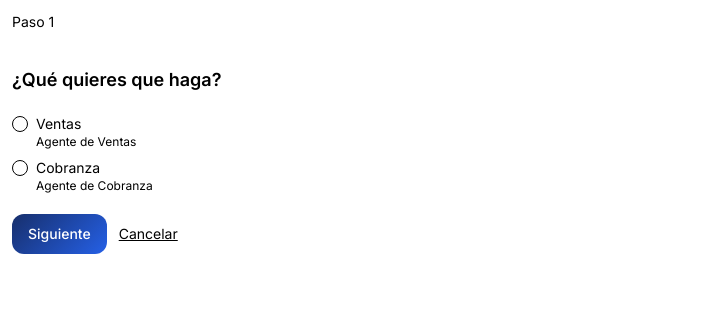
Test case: asistente en pantalla › Cobranza no ve las preguntas de Ventas y el paso de contenido enlaza lo que falta
Click the 2nd radio button named "Cobranza".
click(20, 168)  # box 12,160 -> 28,176
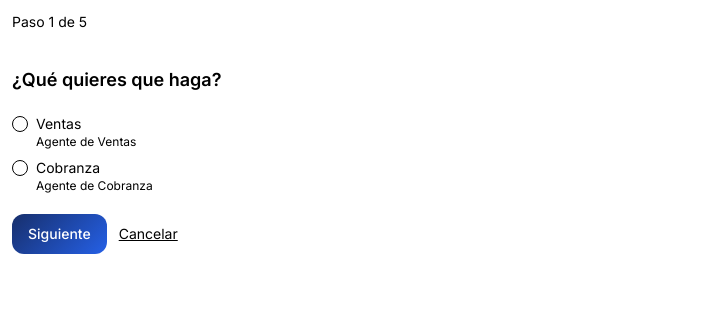
Click the button "Siguiente".
click(59, 234)  # box 12,214 -> 107,254
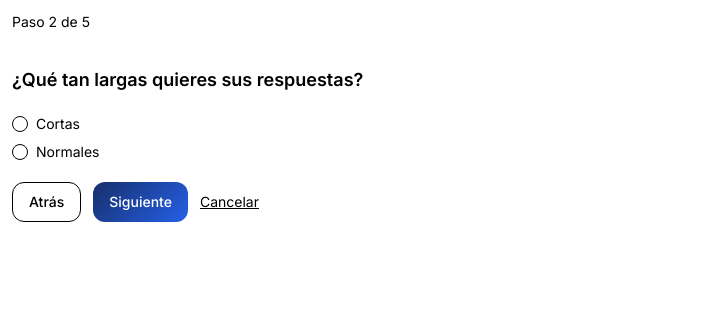
Now the heading "¿Qué tan largas quieres sus respuestas?" is shown, box 12,69 -> 363,90
Click the button "Siguiente".
click(141, 202)  # box 93,182 -> 188,222
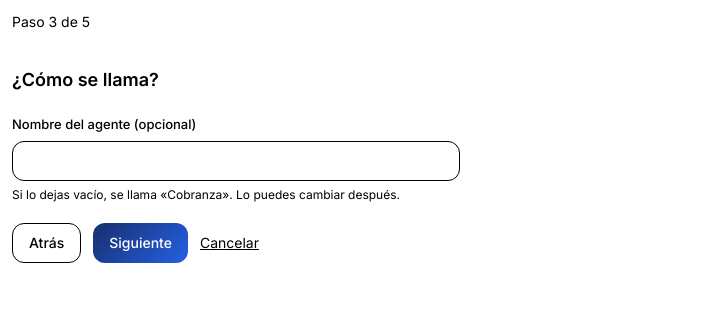
Click the button "Siguiente".
click(141, 243)  # box 93,223 -> 188,263
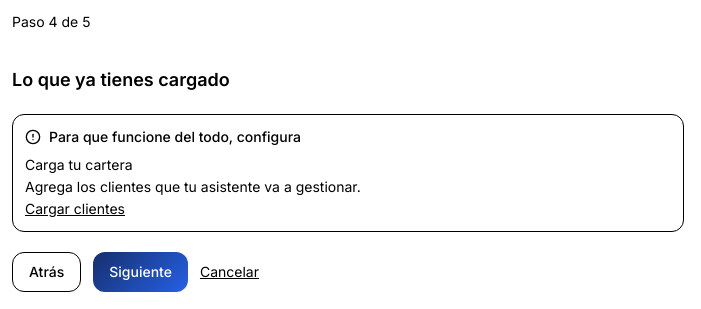
Now the text "Para que funcione del todo, configura" is shown, box 25,128 -> 301,145
